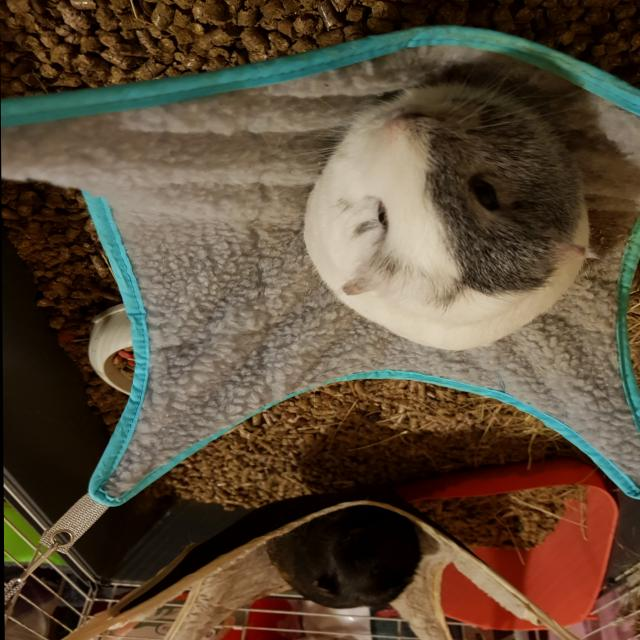guinea pig: (299, 73, 596, 351), (263, 495, 425, 614)
